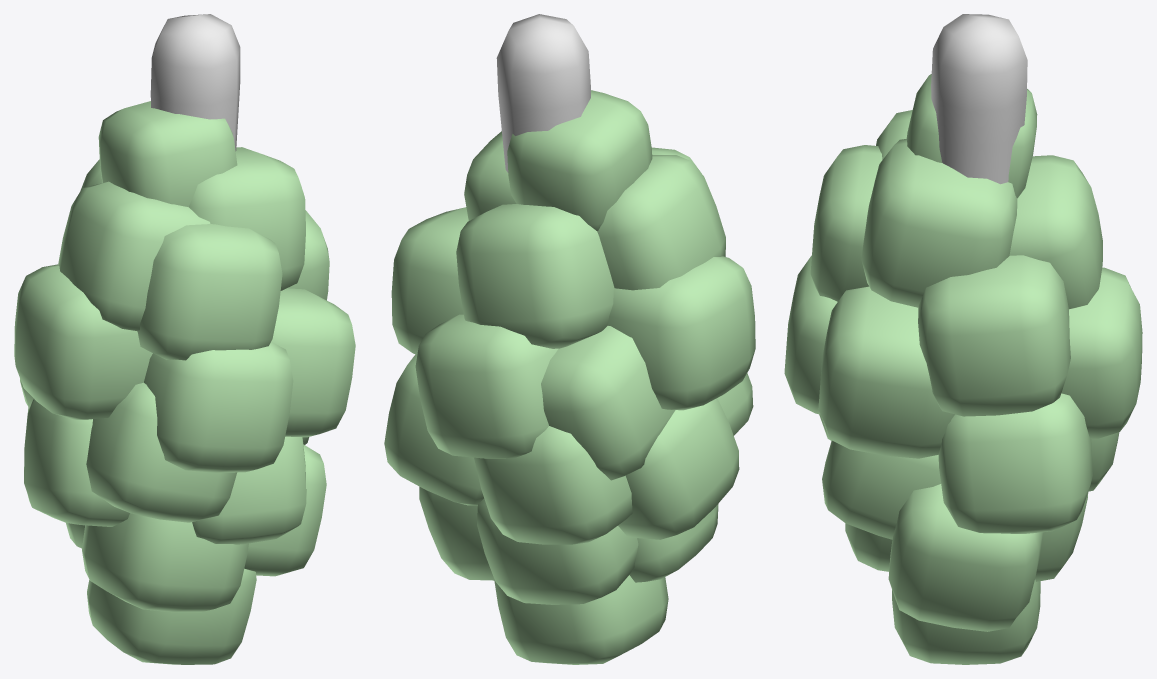
The model's file is GrapeBushel.fbx.
The picture shows the model from 3 angles, left to right: view 1: azimuth 30°, elevation 25°; view 2: azimuth 150°, elevation 25°; view 3: azimuth 270°, elevation 25°; orthographic projection. The views are drawn at different scales.
Visible parts, largest first — view 1: grape.004, grape.006, grape.008, grape.019, grape.002, grape.003, grape, grape.013, grape.017, grape stem, grape.001, grape.009 (+3 smaller); view 2: grape.018, grape.005, grape.008, grape, grape.007, grape.015, grape.002, grape.009, grape.017, grape stem, grape.010, grape.012 (+5 smaller); view 3: grape.012, grape.001, grape.011, grape.013, grape.016, grape stem, grape.005, grape.018, grape.004, grape.014, grape.017, grape.006 (+5 smaller).
Part boxes in pixels (bbox=[...]): grape.004: bbox=[137, 224, 282, 360]; grape.006: bbox=[144, 341, 293, 472]; grape.008: bbox=[14, 264, 152, 419]; grape.019: bbox=[82, 513, 248, 612]; grape.002: bbox=[58, 181, 210, 330]; grape.003: bbox=[86, 382, 237, 522]; grape: bbox=[98, 101, 237, 207]; grape.013: bbox=[271, 288, 355, 437]; grape.017: bbox=[87, 568, 256, 664]; grape stem: bbox=[150, 14, 240, 151]; grape.001: bbox=[189, 147, 305, 290]; grape.009: bbox=[24, 399, 129, 526]; grape.018: bbox=[456, 204, 614, 348]; grape.005: bbox=[415, 314, 558, 458]; grape.008: bbox=[607, 256, 755, 410]; grape: bbox=[507, 90, 652, 231]; grape.007: bbox=[541, 326, 675, 480]; grape.015: bbox=[474, 426, 632, 544]; grape.002: bbox=[597, 155, 725, 290]; grape.009: bbox=[618, 398, 739, 539]; grape.017: bbox=[494, 575, 668, 664]; grape stem: bbox=[496, 14, 590, 172]; grape.010: bbox=[477, 498, 638, 604]; grape.012: bbox=[391, 207, 468, 354]; grape.012: bbox=[918, 255, 1070, 416]; grape.001: bbox=[861, 139, 1017, 307]; grape.011: bbox=[938, 393, 1092, 533]; grape.013: bbox=[818, 286, 954, 458]; grape.016: bbox=[888, 484, 1042, 631]; grape stem: bbox=[931, 14, 1027, 184]; grape.005: bbox=[1061, 267, 1142, 438]; grape.018: bbox=[1009, 155, 1102, 309]; grape.004: bbox=[810, 145, 882, 301]; grape.014: bbox=[822, 440, 940, 539]; grape.017: bbox=[892, 579, 1040, 664]; grape.006: bbox=[784, 255, 837, 414].
Size of the model in its own units: 5.49 by 10.99 by 5.5.
